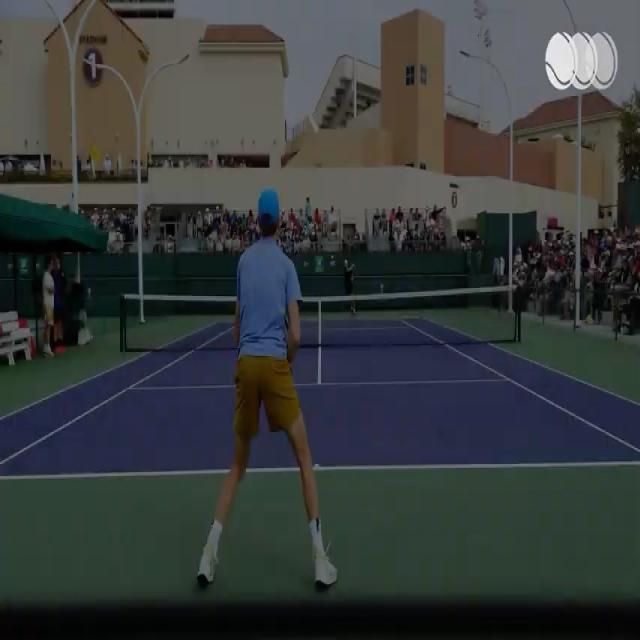ready-position: (213, 173, 339, 595)
